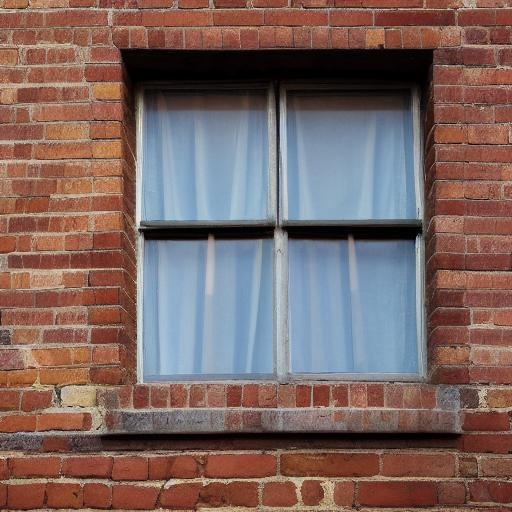Window: (91, 26, 466, 441)
